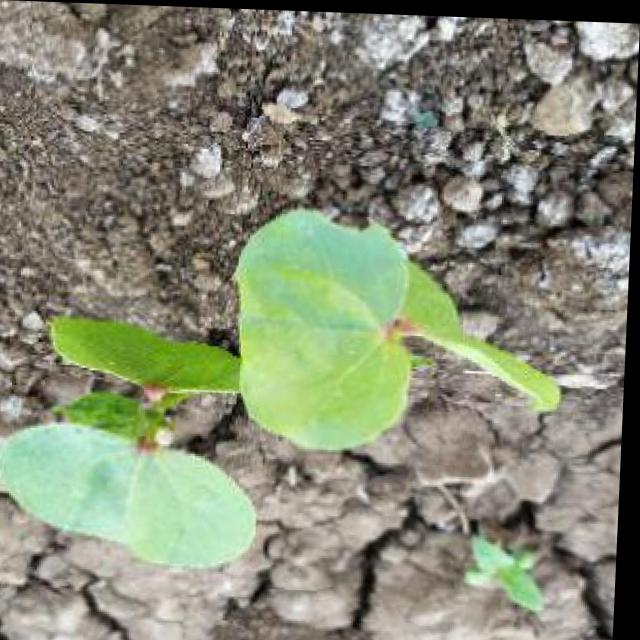weed: (85, 118, 505, 510)
